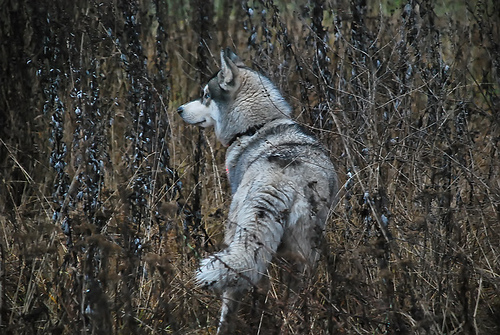dog: (176, 49, 340, 333)
